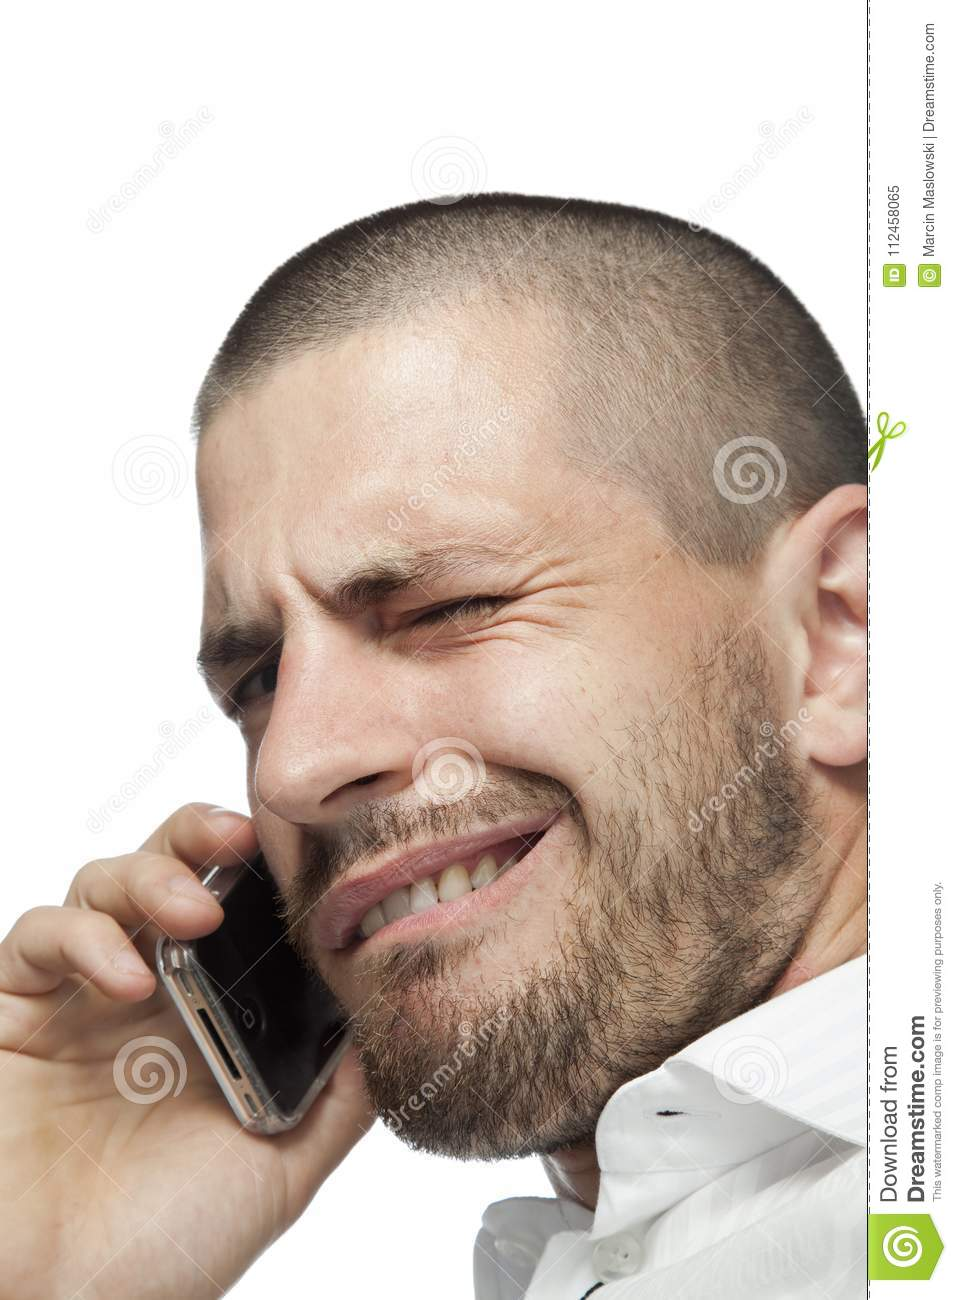phone: (153, 825, 357, 1148)
talk: (1, 452, 611, 1298)
